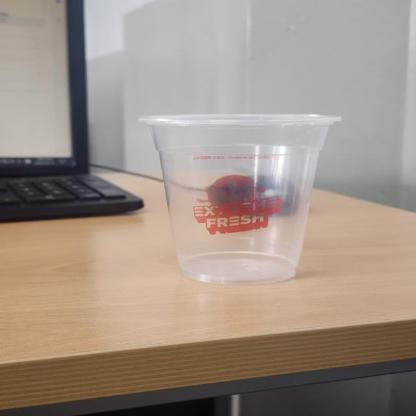Plastic Cup: (134, 112, 354, 284)
